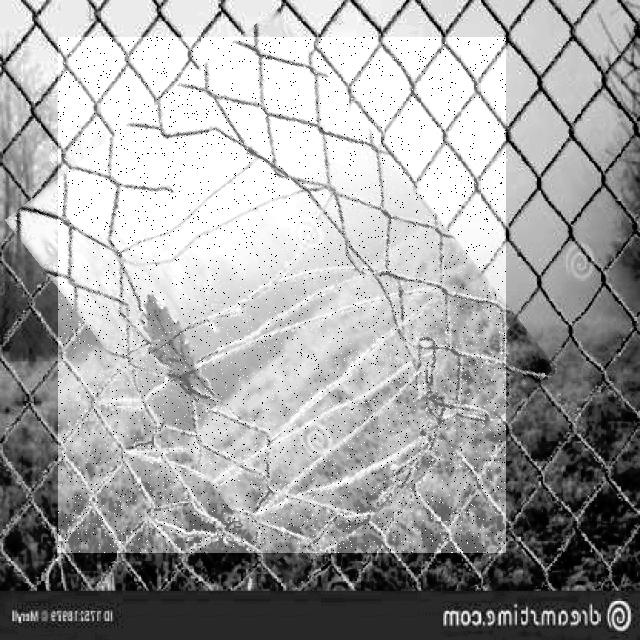anomaly-fence: (58, 37, 506, 553)
